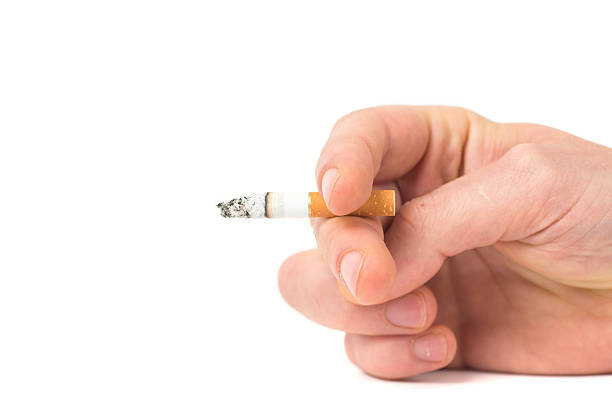cigarette: (215, 192, 399, 220)
